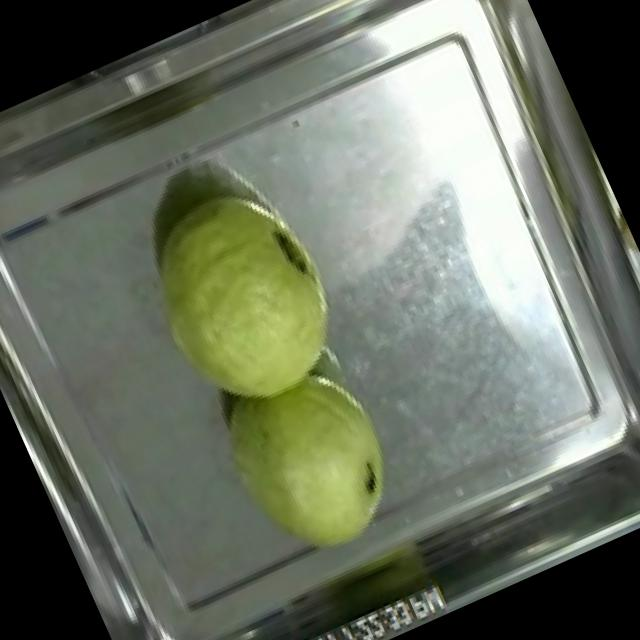Fruit: (116, 161, 368, 437), (200, 344, 427, 582)
